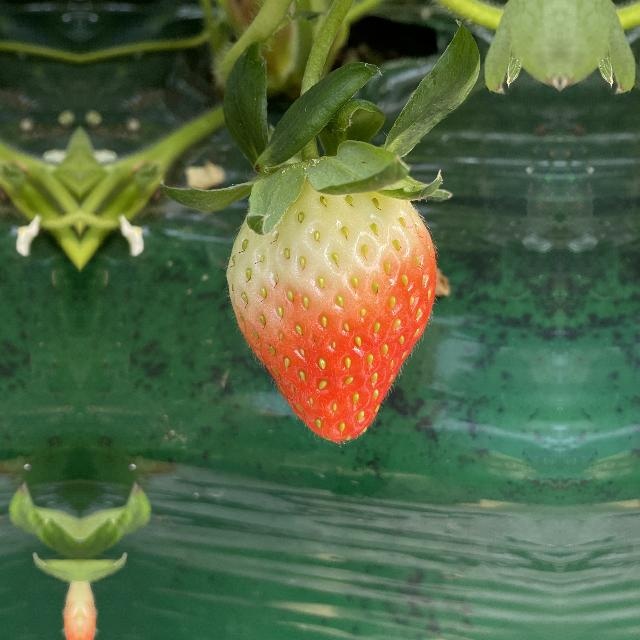Health_75: (218, 167, 436, 443)
